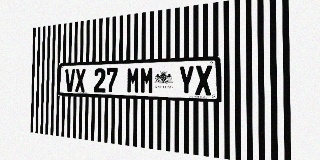2: (94, 68, 105, 93)
7: (106, 68, 118, 93)
M: (140, 67, 154, 94), (127, 67, 140, 94)
V: (65, 69, 75, 92)
X: (195, 65, 212, 95), (75, 69, 86, 92)
Y: (178, 65, 194, 95)
